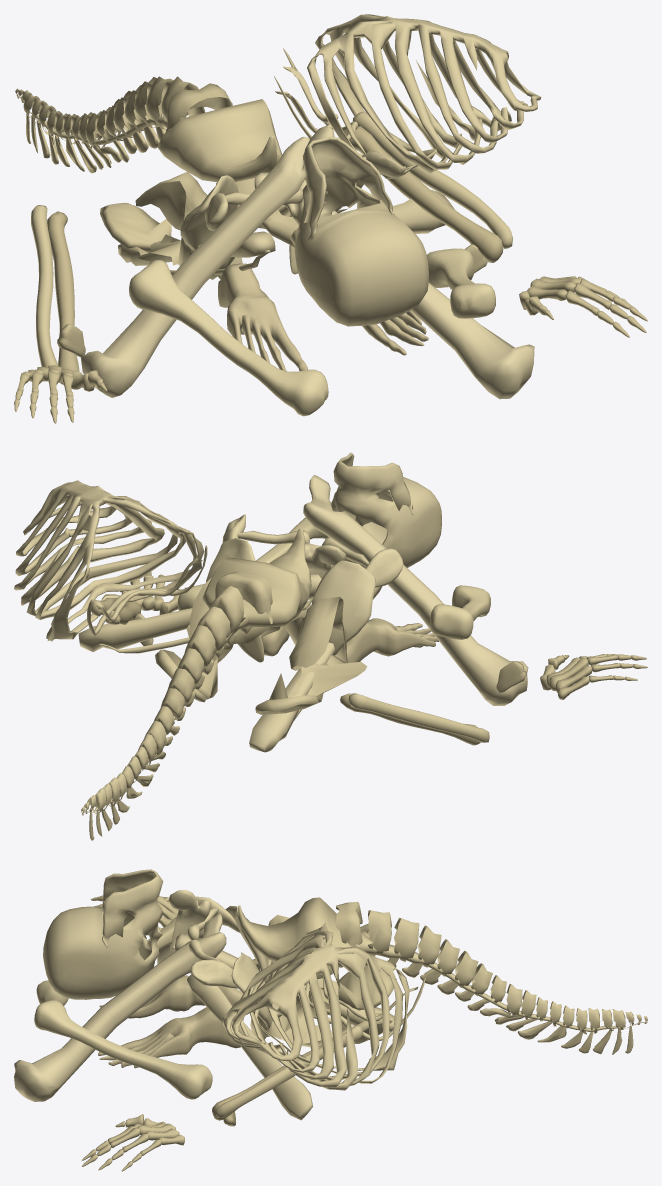
Rendered from EnemyDeath 1.fbx.
3 views of the same model, one above another, from view 1: azimuth 30°, elevation 25°; view 2: azimuth 150°, elevation 25°; view 3: azimuth 270°, elevation 25° (orthographic). The views are drawn at different scales.
Parts seen in each view (by area): view 1: Rib Cage, Skull, spine, Femur, Humerus, Radius.001, Femur.001, Ilium, Ulna, Feet, Cube.001, Humerus.001 (+8 smaller); view 2: Rib Cage, spine, Skull, Femur, Ilium, Clavicle And Shoulder, Tibia.001, Ulna, Feet, Cube.002, Humerus, Clavicle And Shoulder.001 (+8 smaller); view 3: Rib Cage, spine, Skull, Femur.001, Humerus.001, Feet.001, Tibia.001, Cube.001, Clavicle And Shoulder.001, Radius.001, Feet, Ilium (+6 smaller).
Boxes of the visible parts, <box> form: Rib Cage: <box>274,14,541,178</box>; Skull: <box>294,136,428,326</box>; spine: <box>15,76,282,182</box>; Femur: <box>80,126,334,397</box>; Humerus: <box>129,260,328,416</box>; Radius.001: <box>344,111,512,262</box>; Femur.001: <box>254,172,534,399</box>; Ilium: <box>100,171,234,279</box>; Ulna: <box>31,205,79,384</box>; Feet: <box>218,263,307,371</box>; Cube.001: <box>519,276,647,337</box>; Humerus.001: <box>426,248,495,318</box>; Rib Cage: <box>14,480,207,641</box>; spine: <box>81,528,311,840</box>; Skull: <box>327,452,441,567</box>; Femur: <box>303,475,528,705</box>; Ilium: <box>255,596,367,714</box>; Clavicle And Shoulder: <box>311,537,403,655</box>; Tibia.001: <box>78,574,321,653</box>; Ulna: <box>340,693,489,745</box>; Feet: <box>346,618,438,662</box>; Cube.002: <box>540,654,647,699</box>; Humerus: <box>429,585,490,639</box>; Clavicle And Shoulder.001: <box>206,514,309,662</box>; Rib Cage: <box>222,922,425,1090</box>; spine: <box>238,897,647,1054</box>; Skull: <box>43,869,163,999</box>; Femur.001: <box>14,913,226,1101</box>; Humerus.001: <box>34,1000,212,1099</box>; Feet.001: <box>98,1007,240,1068</box>; Tibia.001: <box>187,974,312,1120</box>; Cube.001: <box>81,1114,184,1171</box>; Clavicle And Shoulder.001: <box>189,939,272,1039</box>; Radius.001: <box>212,1025,363,1120</box>; Feet: <box>99,975,243,1018</box>; Ilium: <box>256,915,396,1010</box>.
Size of the model in its own units: 194 by 71.73 by 216.
